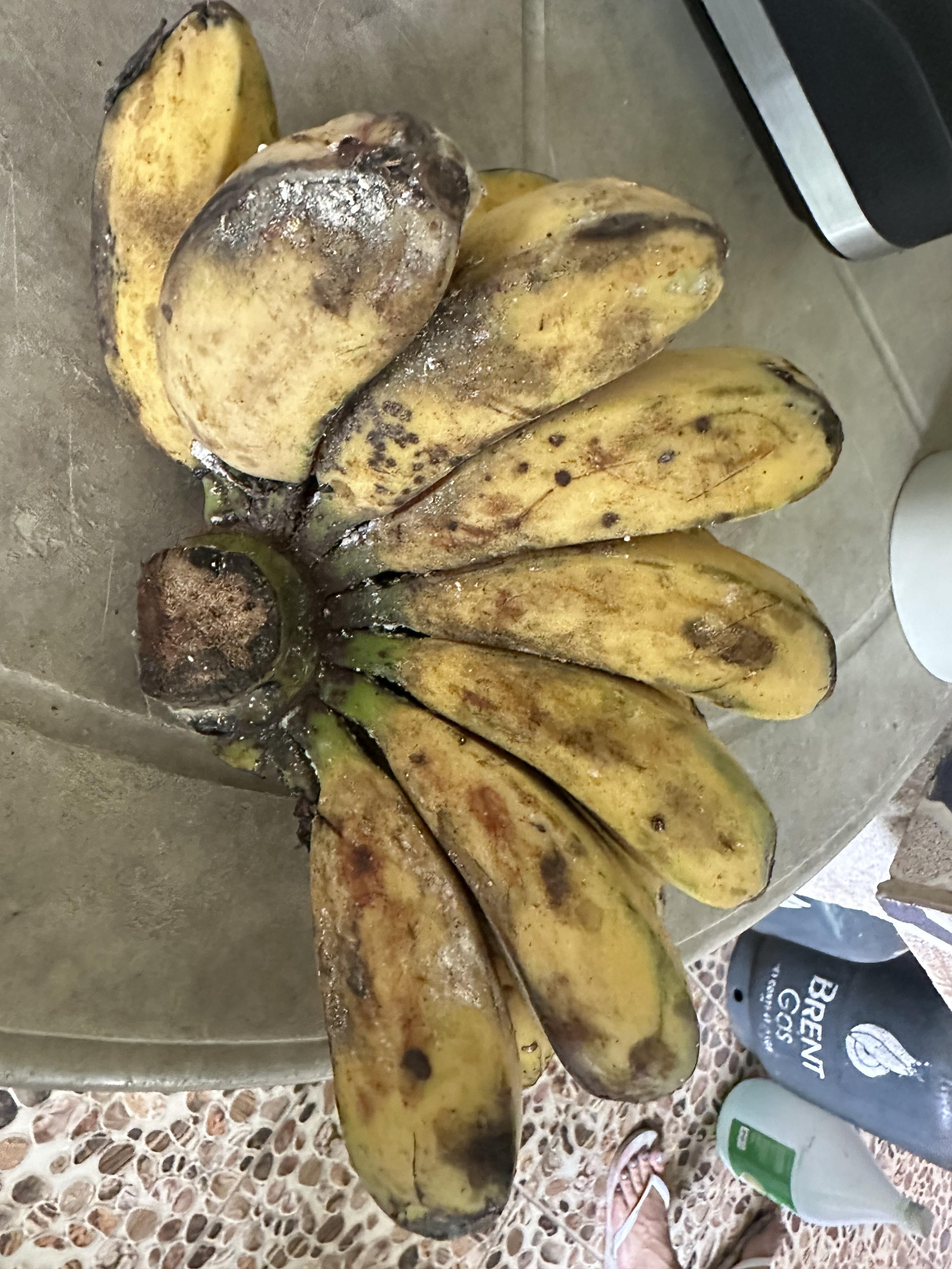ripe: (93, 3, 844, 1238)
